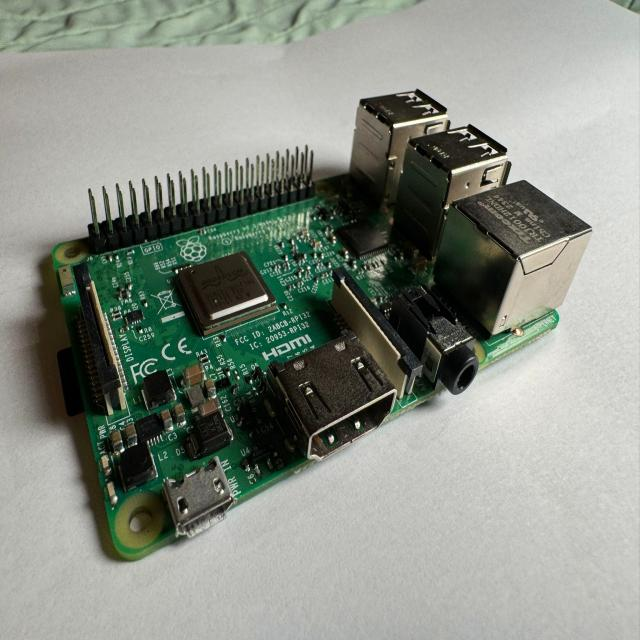CPU: (172, 252, 279, 338)
Ethernet: (454, 182, 593, 365)
GPIO: (88, 147, 316, 253)
HDMI: (273, 336, 398, 460)
RAM-3: (335, 208, 392, 261)
Raspberry: (43, 93, 592, 564)
